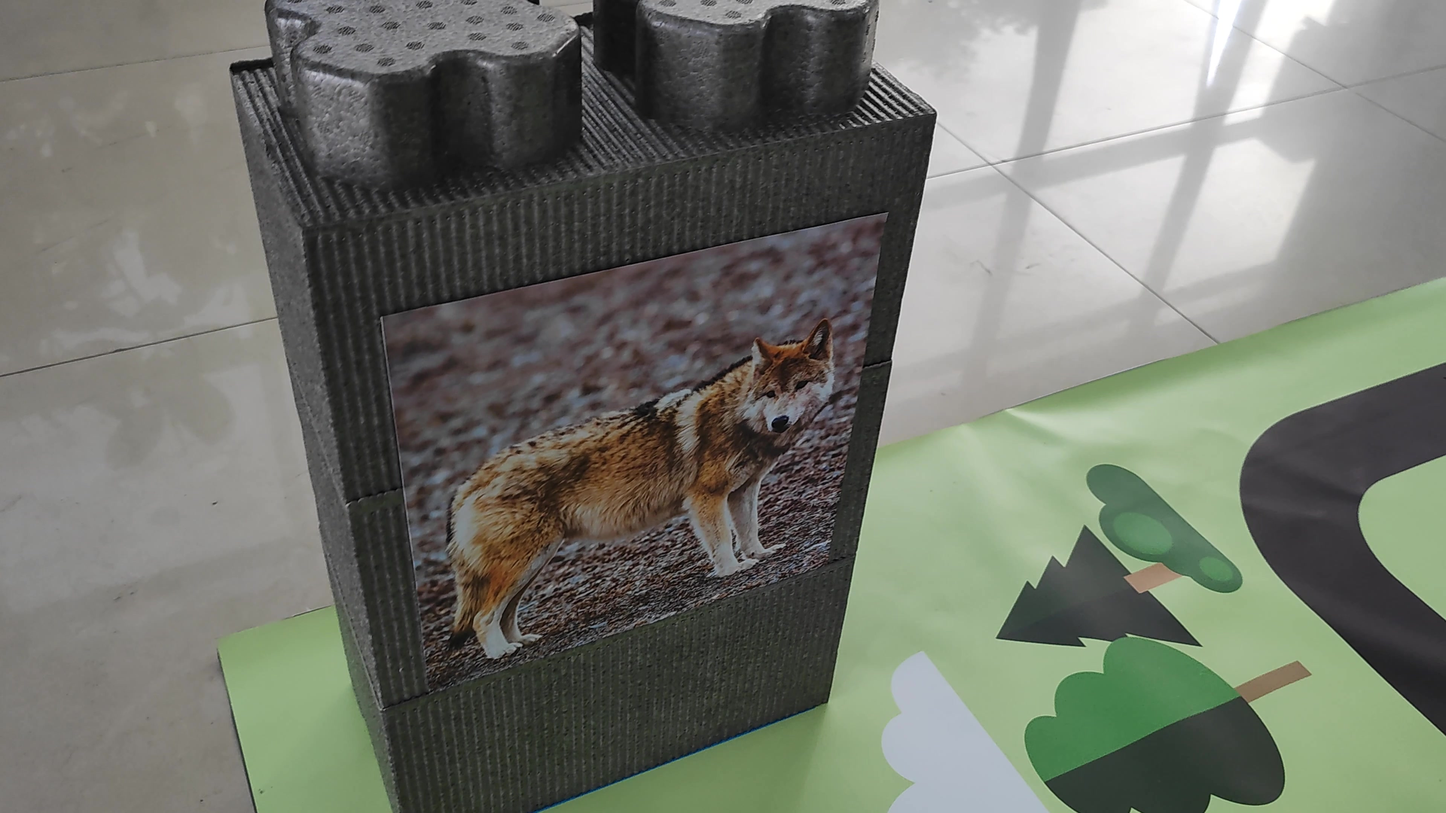wolf: (392, 298, 830, 670)
